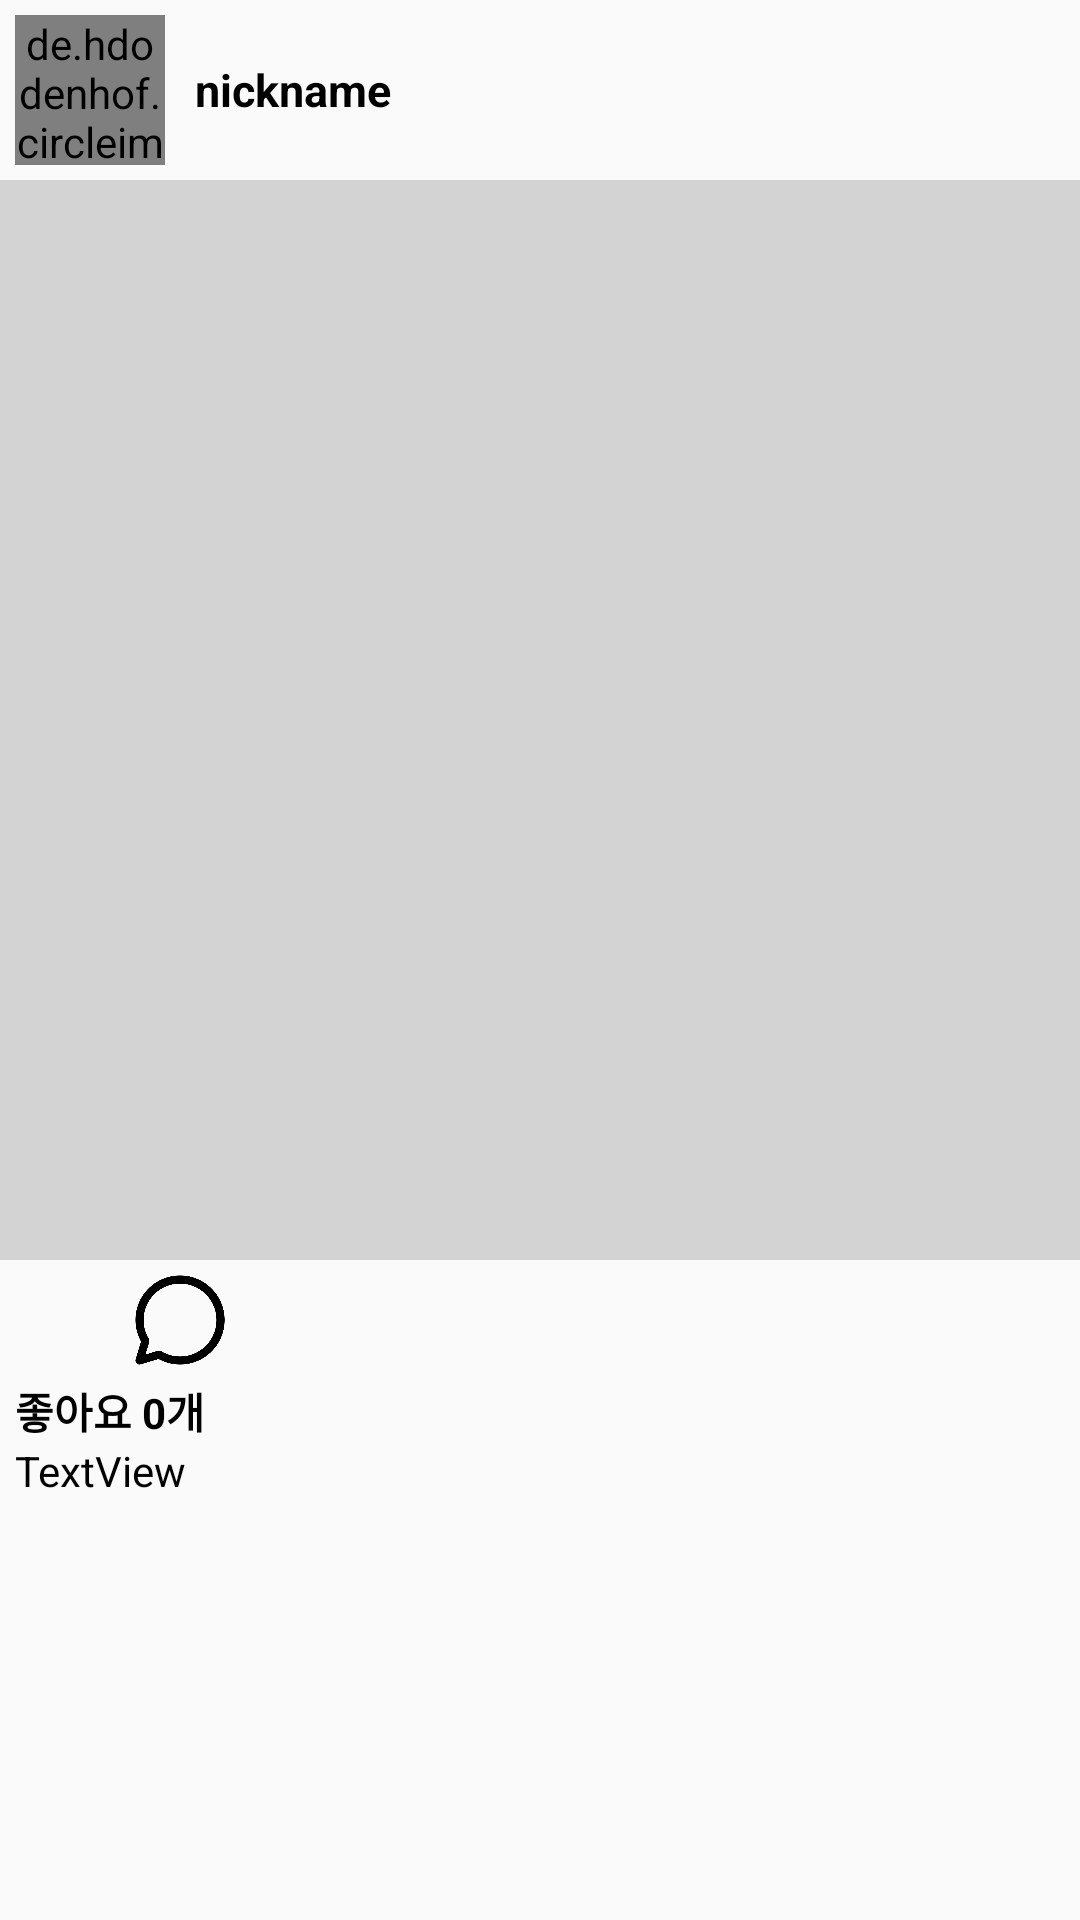

Named icons in this screenshot (1080w x 1920h) and their bounding boxes, (x1, y1, x2, y2):
comment: (135, 1275, 225, 1365)
